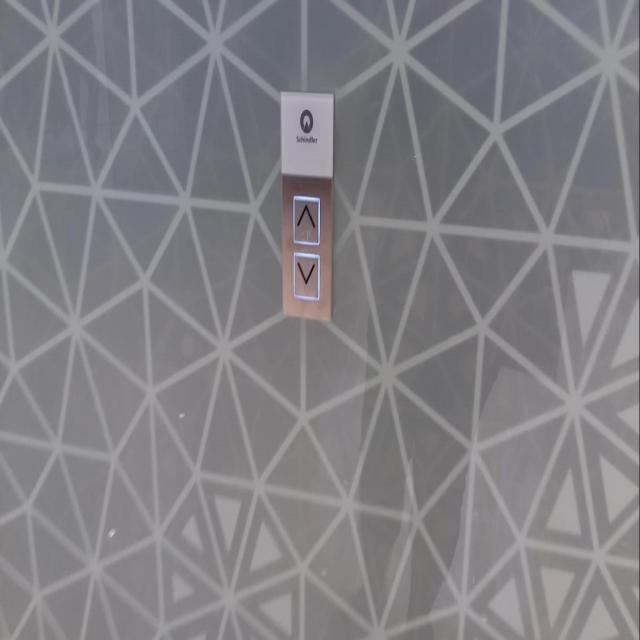down: (292, 250, 319, 299)
up: (292, 194, 321, 248)
